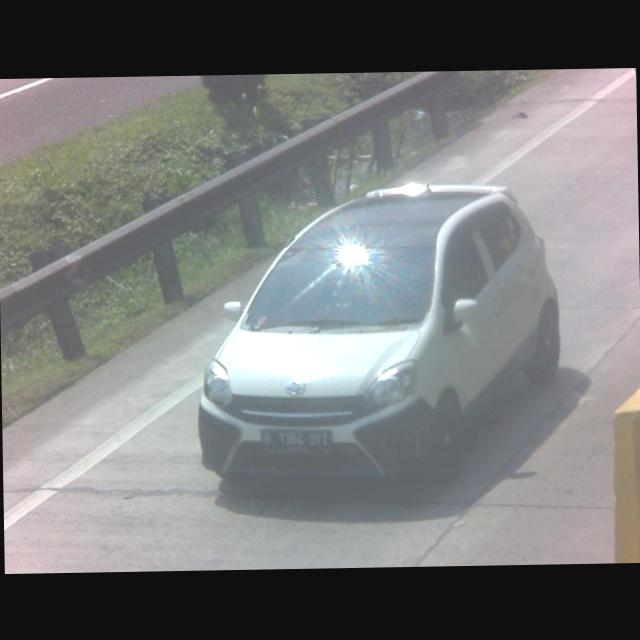plate: (260, 427, 331, 453)
